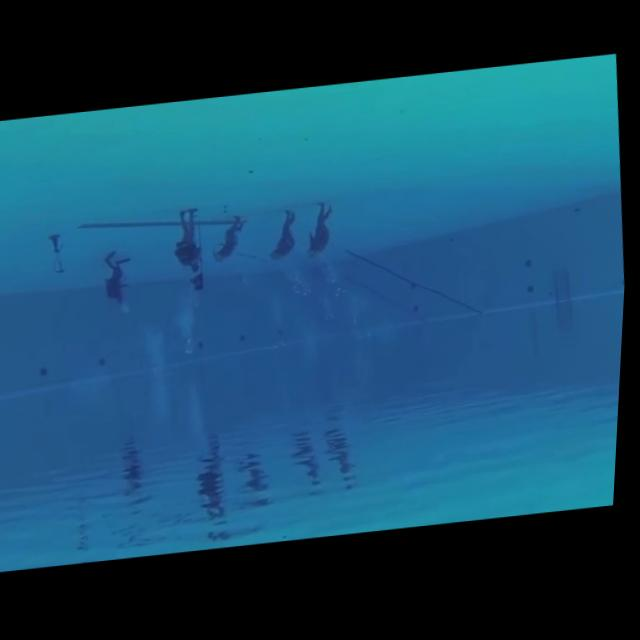human: (165, 199, 213, 278), (300, 196, 345, 269), (209, 209, 256, 273), (97, 247, 141, 312), (264, 208, 308, 268)
